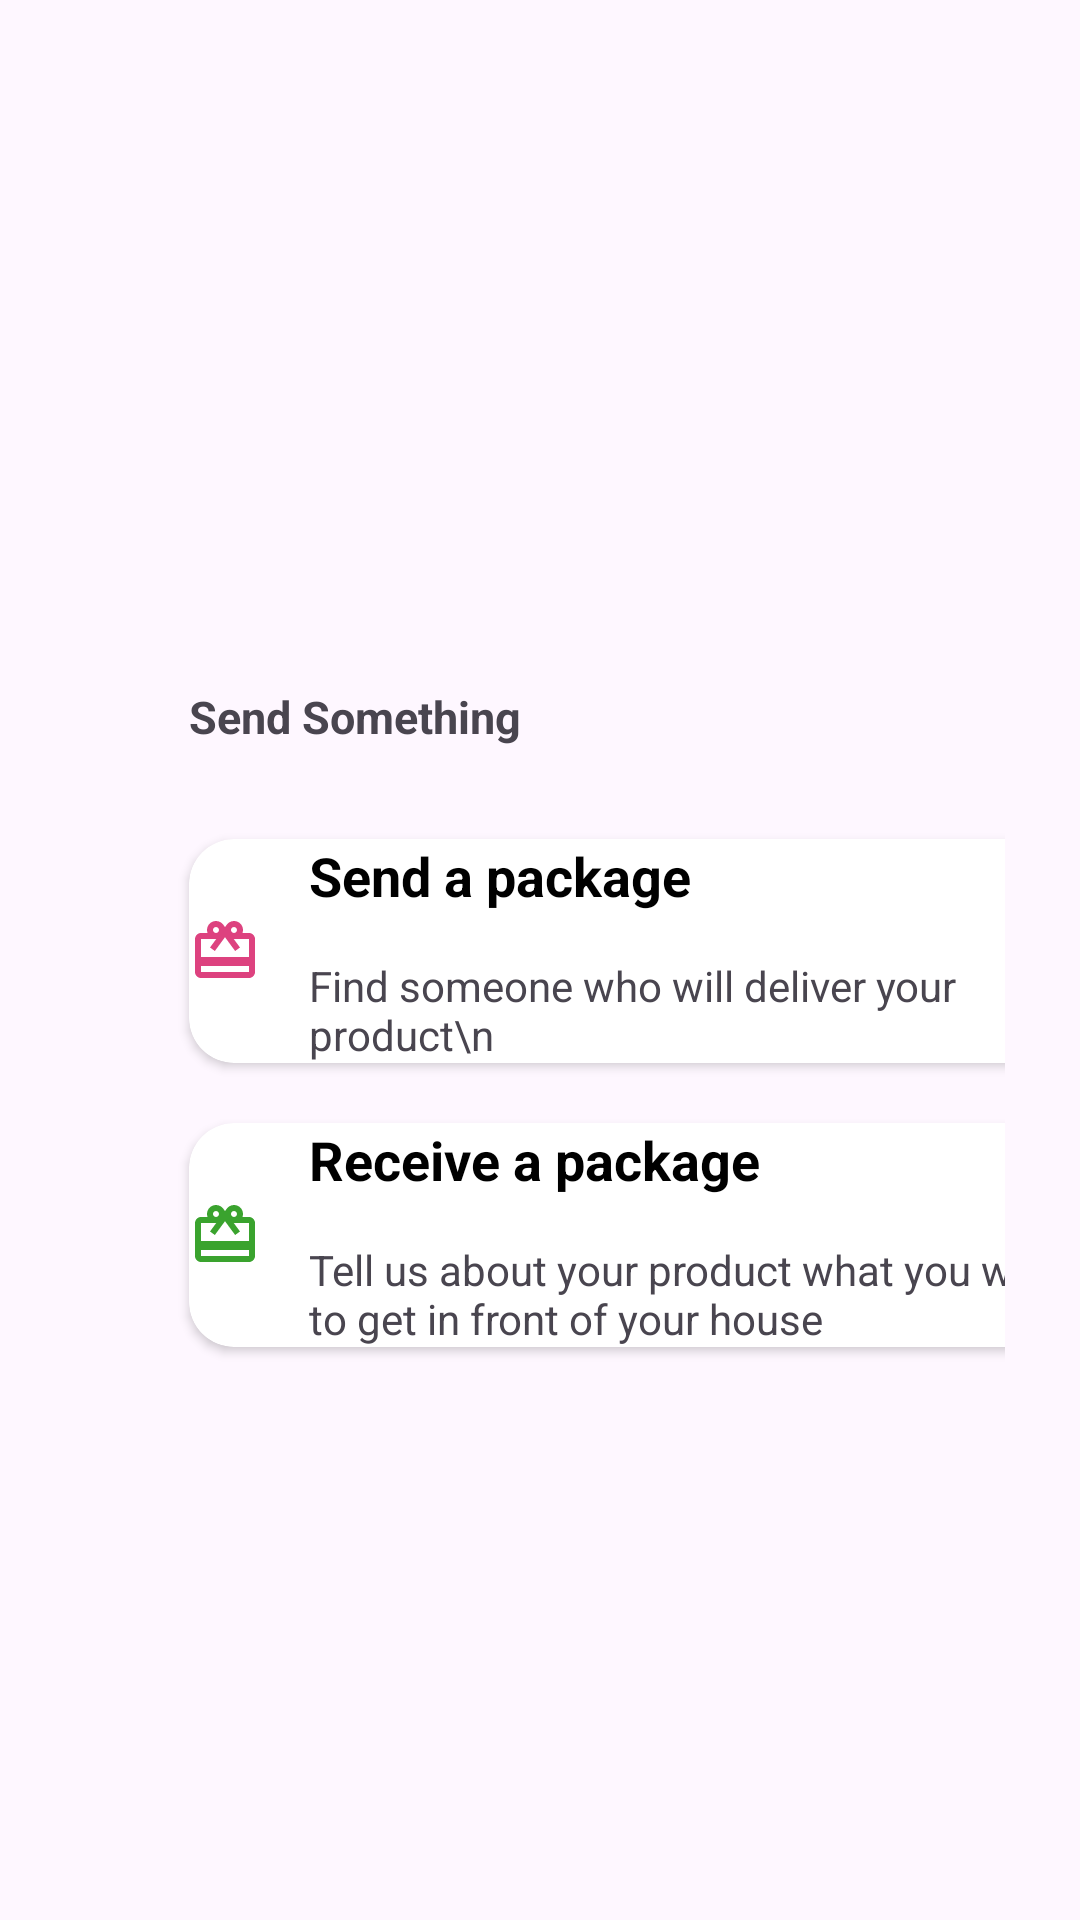

Icon bounding boxes for this 1080x1920 phone screenshot, format box(x1, y1, x2, y2):
card giftcard: box(195, 921, 255, 978)
card giftcardrreceived: box(195, 1205, 255, 1262)
